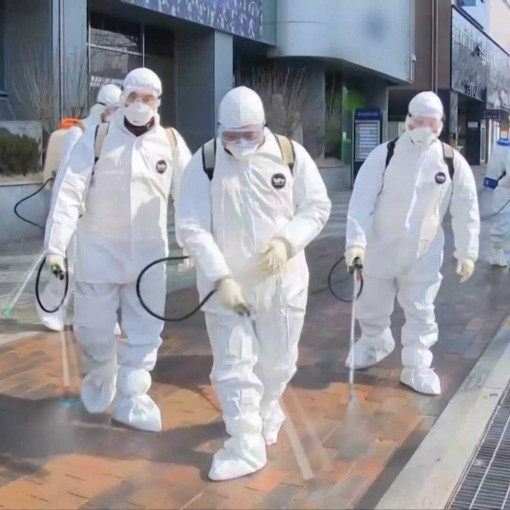Coverall: (179, 83, 329, 442), (47, 65, 186, 400), (341, 92, 480, 365)
Gloves: (212, 275, 254, 326), (256, 235, 294, 278), (448, 254, 479, 284)
Goggles: (217, 122, 272, 149), (406, 110, 444, 131)
with_mask: (221, 123, 265, 163), (406, 111, 444, 149), (121, 99, 158, 129)
